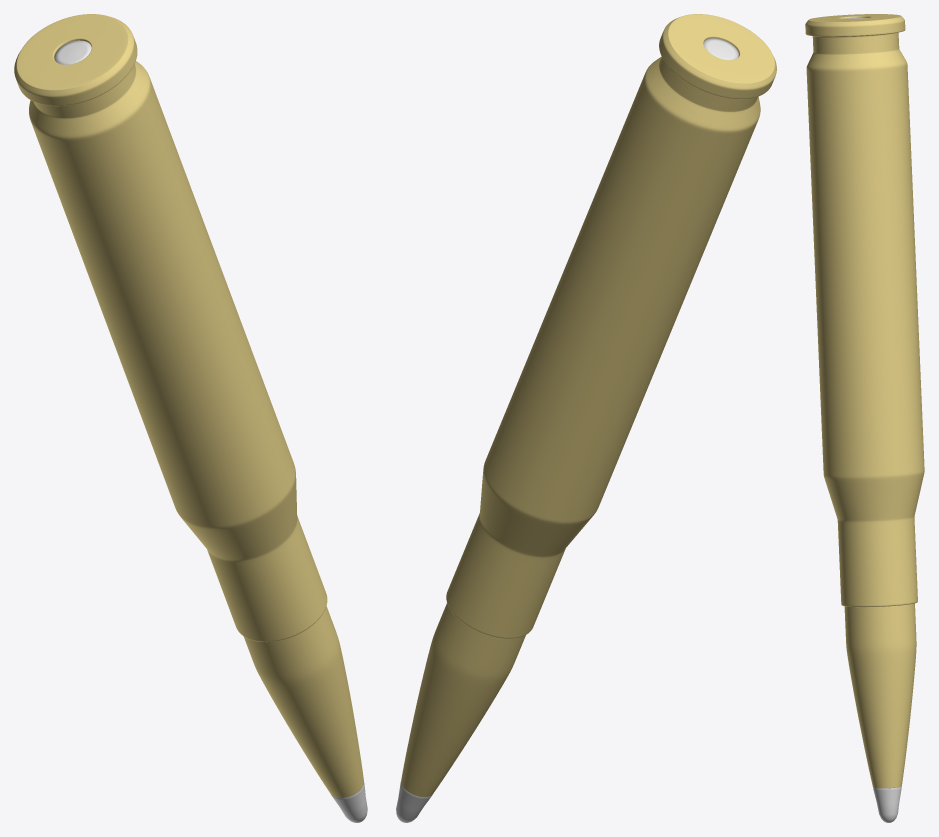
3 renders of one model, left to right at view 1: azimuth 30°, elevation 25°; view 2: azimuth 150°, elevation 25°; view 3: azimuth 270°, elevation 25°, orthographic. The views are drawn at different scales.
Parts seen in each view (by area): view 1: bullet; view 2: bullet; view 3: bullet.
Boxes of the visible parts, x1,y1,x2,y2 form: bullet: (14, 14, 367, 822); bullet: (396, 14, 776, 822); bullet: (805, 14, 924, 822).
Bounding box in the file's own units: 0.5383 × 1.24 × 0.1919.
